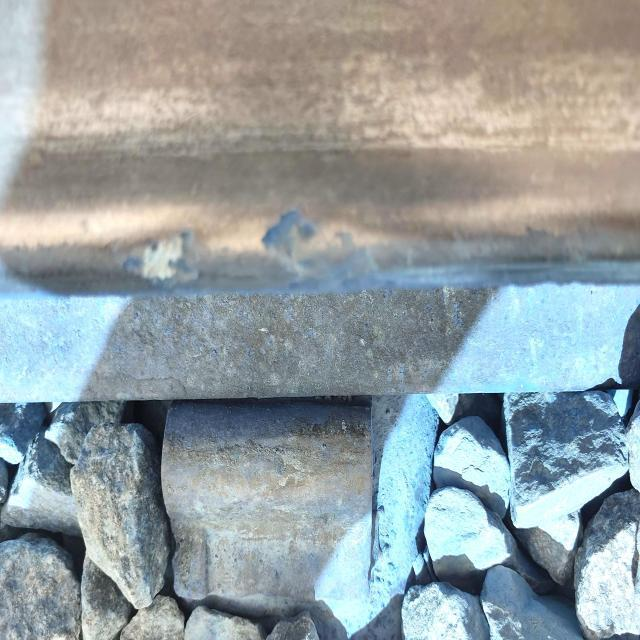Missing Fastener: (131, 364, 407, 640)
